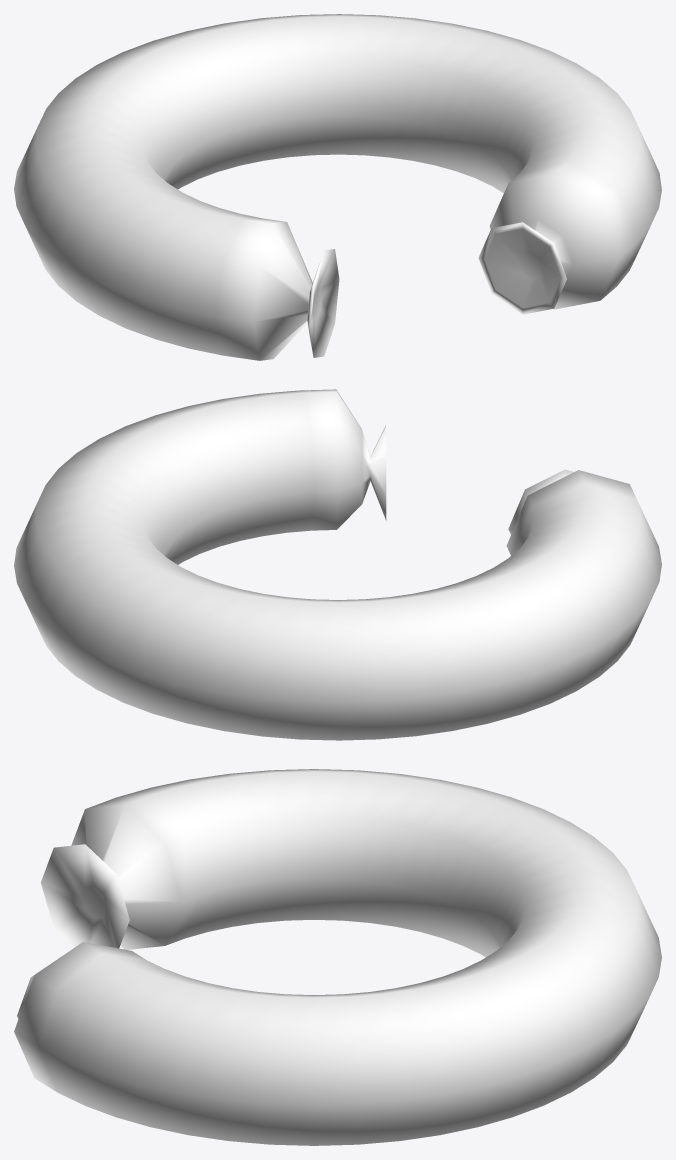
The model's file is SM_Fleischwurst.fbx.
3 renders of one model, top to bottom at view 1: azimuth 30°, elevation 25°; view 2: azimuth 150°, elevation 25°; view 3: azimuth 270°, elevation 25°, orthographic. The views are drawn at different scales.
Parts seen in each view (by area): view 1: Fleischwurst.001; view 2: Fleischwurst.001; view 3: Fleischwurst.001.
Boxes of the visible parts, x1=… form: Fleischwurst.001: x1=14, y1=14, x2=661, y2=360; Fleischwurst.001: x1=14, y1=389, x2=661, y2=740; Fleischwurst.001: x1=14, y1=769, x2=661, y2=1145.
Bounding box in the file's own units: 97.56 × 22.51 × 90.89.
